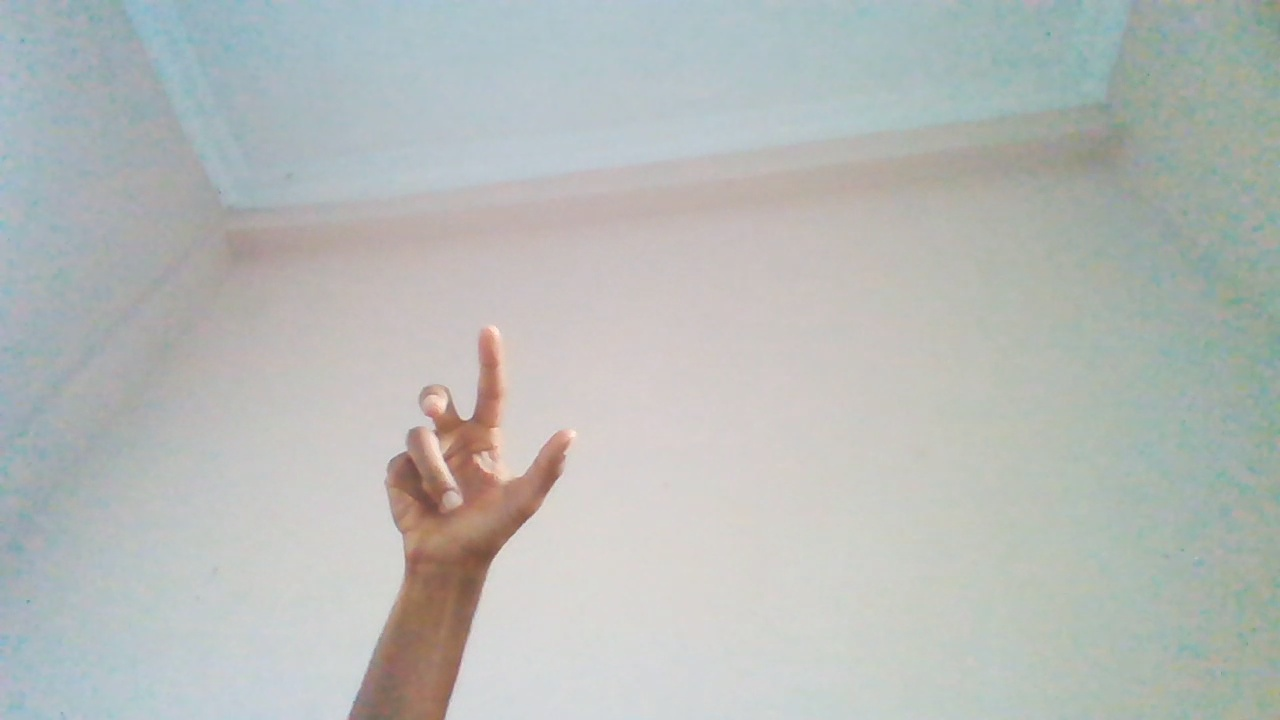hhe: (376, 327, 580, 661)
